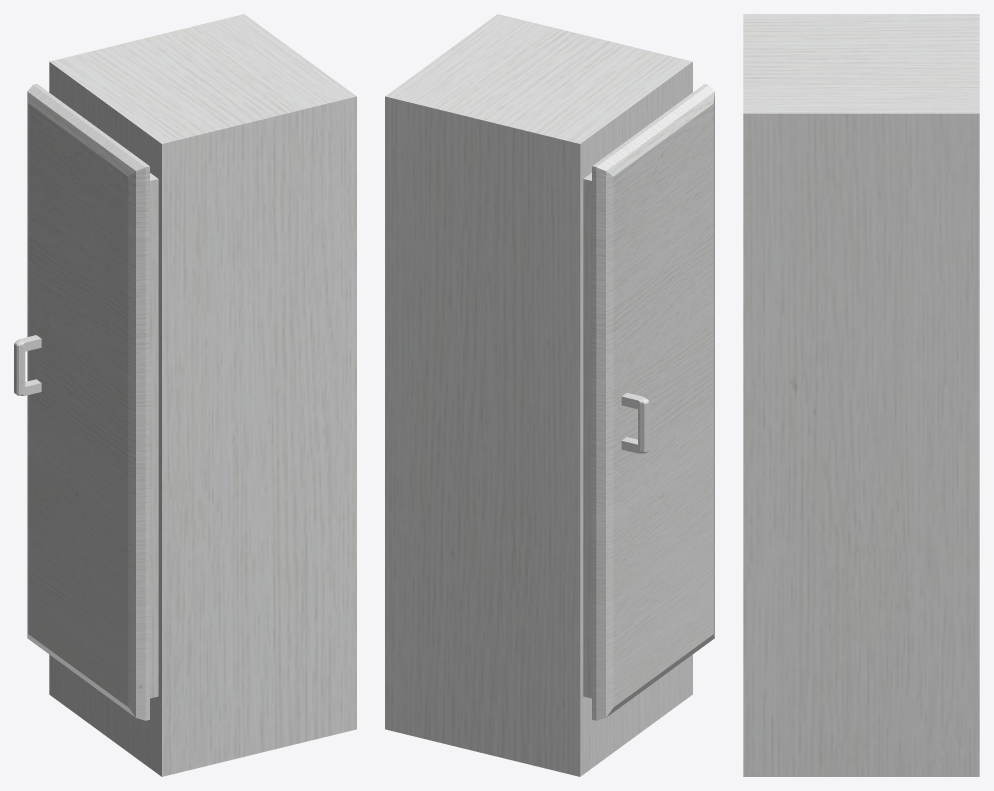
Rendered from FridgeV4.gltf.
3 views of the same model, side by side, from view 1: azimuth 30°, elevation 25°; view 2: azimuth 150°, elevation 25°; view 3: azimuth 270°, elevation 25° (orthographic). The views are drawn at different scales.
Parts seen in each view (by area): view 1: Cube, Cube.001; view 2: Cube, Cube.001; view 3: Cube.
Boxes of the visible parts, x1,y1,x2,y2 form: Cube: [27, 14, 356, 776]; Cube.001: [14, 335, 41, 395]; Cube: [385, 14, 714, 776]; Cube.001: [621, 393, 649, 453]; Cube: [743, 14, 979, 776].
Size of the model in its own units: 0.6303 by 1.55 by 0.5.
2 materials, 2 textured.
